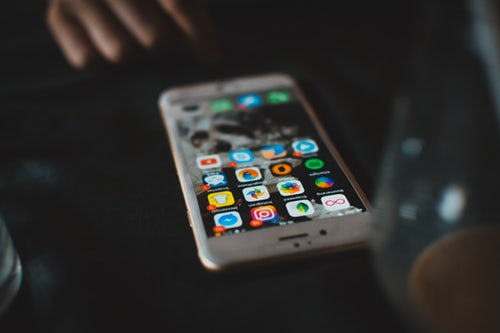phone: (153, 72, 389, 278)
